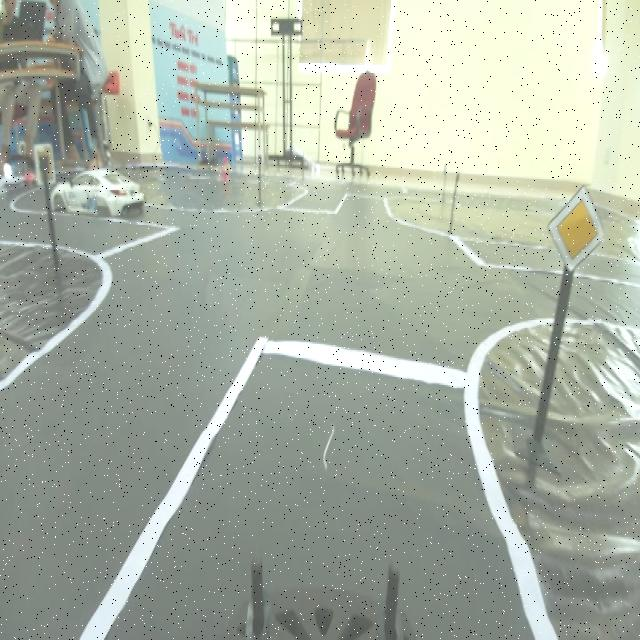priority: (550, 174, 600, 281)
